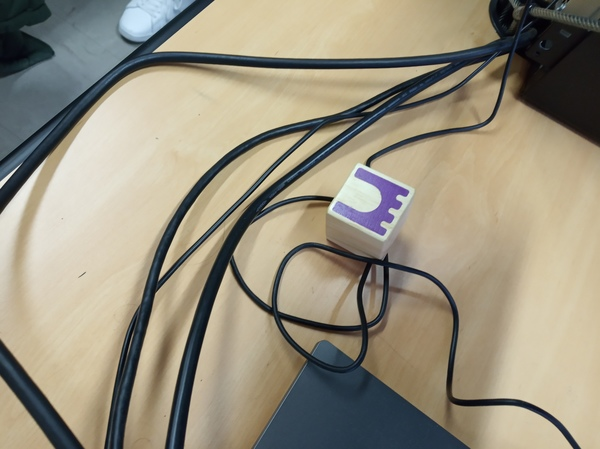violet: (336, 167, 415, 251)
